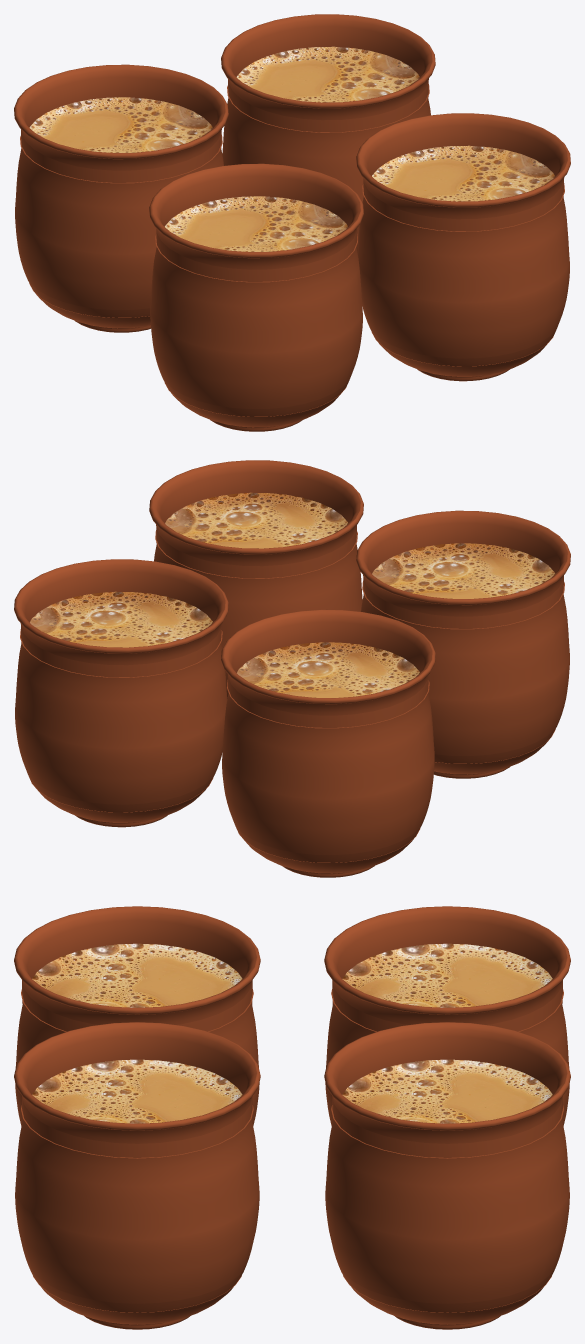
3 views of the same model, one above another, from view 1: azimuth 30°, elevation 25°; view 2: azimuth 150°, elevation 25°; view 3: azimuth 270°, elevation 25° (orthographic). The views are drawn at different scales.
Parts seen in each view (by area): view 1: Cup.003_6, Cup.002_4, Cup.001_2, Cup_0, Tea_1, Tea.002_5, Tea.001_3, Tea.003_7; view 2: Cup.001_2, Cup_0, Cup.003_6, Cup.002_4, Tea.002_5, Tea_1, Tea.001_3, Tea.003_7; view 3: Cup_0, Cup.002_4, Cup.001_2, Cup.003_6, Tea_1, Tea.002_5, Tea.001_3, Tea.003_7.
Boxes of the visible parts, bbox=[...] form: Cup.003_6: bbox=[149, 163, 363, 431]; Cup.002_4: bbox=[356, 113, 570, 381]; Cup.001_2: bbox=[14, 64, 228, 332]; Cup_0: bbox=[221, 14, 435, 252]; Tea_1: bbox=[236, 46, 419, 102]; Tea.002_5: bbox=[372, 145, 554, 201]; Tea.001_3: bbox=[29, 97, 212, 152]; Tea.003_7: bbox=[165, 196, 347, 251]; Cup.001_2: bbox=[221, 609, 435, 877]; Cup_0: bbox=[14, 559, 228, 827]; Cup.003_6: bbox=[356, 510, 570, 778]; Cup.002_4: bbox=[149, 460, 363, 698]; Tea.002_5: bbox=[165, 492, 348, 548]; Tea_1: bbox=[30, 591, 212, 647]; Tea.001_3: bbox=[237, 642, 419, 697]; Tea.003_7: bbox=[372, 543, 555, 598]; Cup_0: bbox=[324, 1022, 570, 1329]; Cup.002_4: bbox=[14, 1022, 260, 1329]; Cup.001_2: bbox=[324, 906, 570, 1125]; Cup.003_6: bbox=[14, 906, 260, 1125]; Tea_1: bbox=[342, 1059, 552, 1123]; Tea.002_5: bbox=[32, 1059, 242, 1123]; Tea.001_3: bbox=[342, 943, 552, 1007]; Tea.003_7: bbox=[32, 943, 242, 1007].
Size of the model in its own units: 0.255 by 0.1251 by 0.2727.
2 materials, 1 textured.
